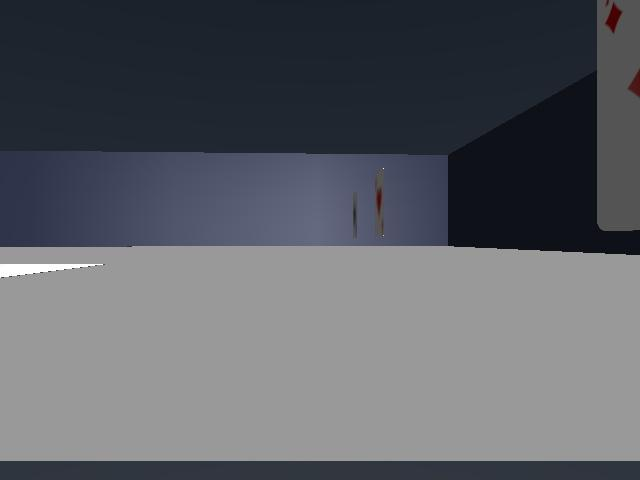diamond: (375, 168, 384, 237)
